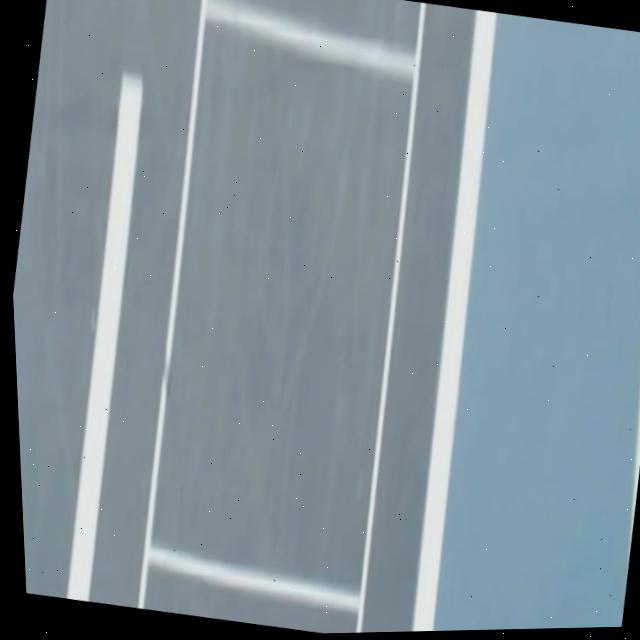center: (67, 73, 143, 602)
left: (413, 10, 497, 631)
